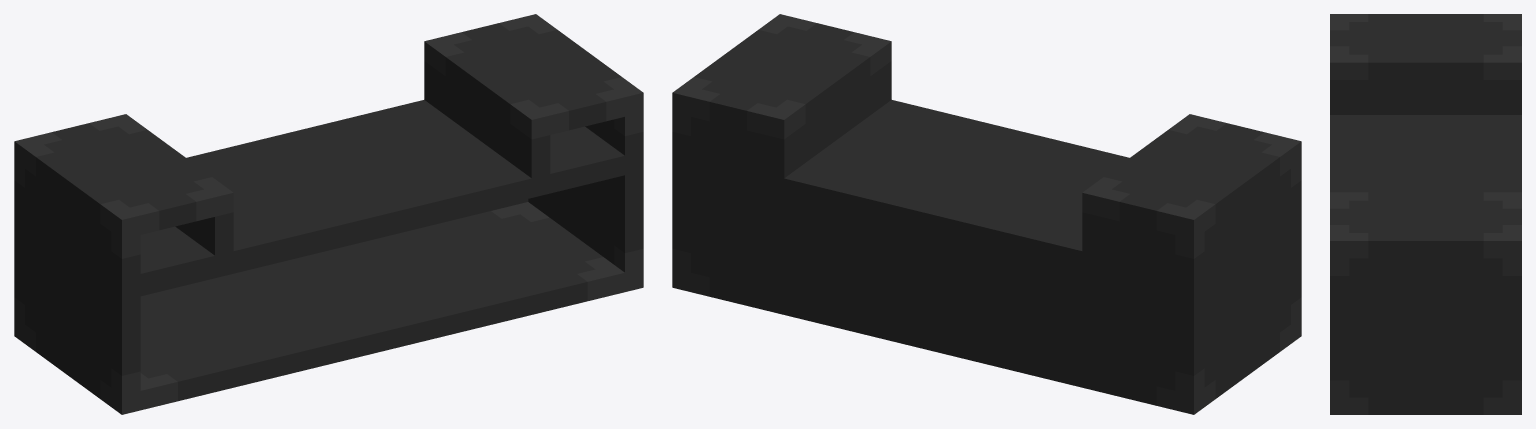
File: Decor-53.obj
3 renders of one model, left to right at view 1: azimuth 30°, elevation 25°; view 2: azimuth 150°, elevation 25°; view 3: azimuth 270°, elevation 25°, orthographic. The views are drawn at different scales.
Bounding box in the file's own units: 2.8 × 1 × 1.
Materials: 1 (1 with a texture image).
